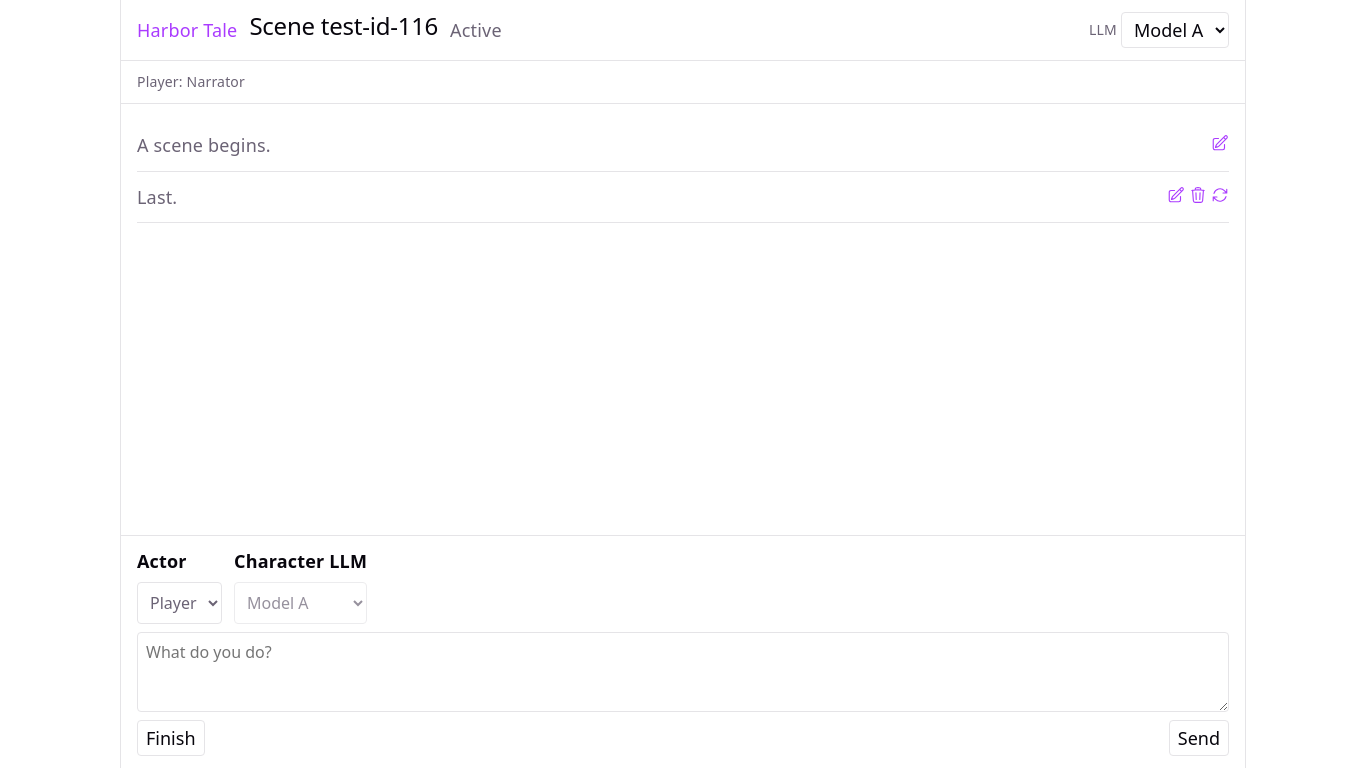
Test: CharacterScenePage › keeps a failed edit draft open and displays its error
Expected: the text "Last." is shown, [137,184,177,208]
Step 1. Click the button named "Edit paragraph" in the row of "Last." → (1176, 197), box [1167,184,1185,210]
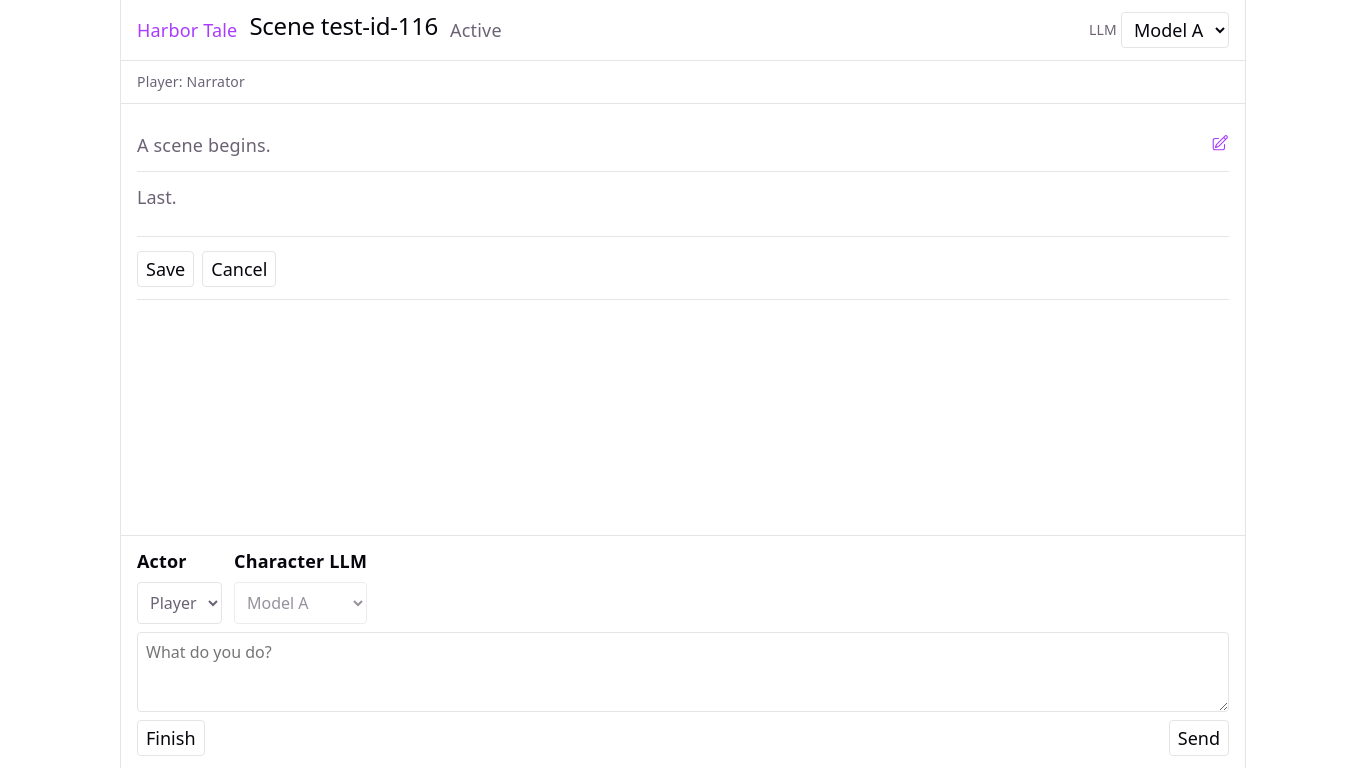
Step 2. Replace the text in the text box named "Edit paragraph" with "Keep this draft." → (683, 210), box [137,184,1229,237]
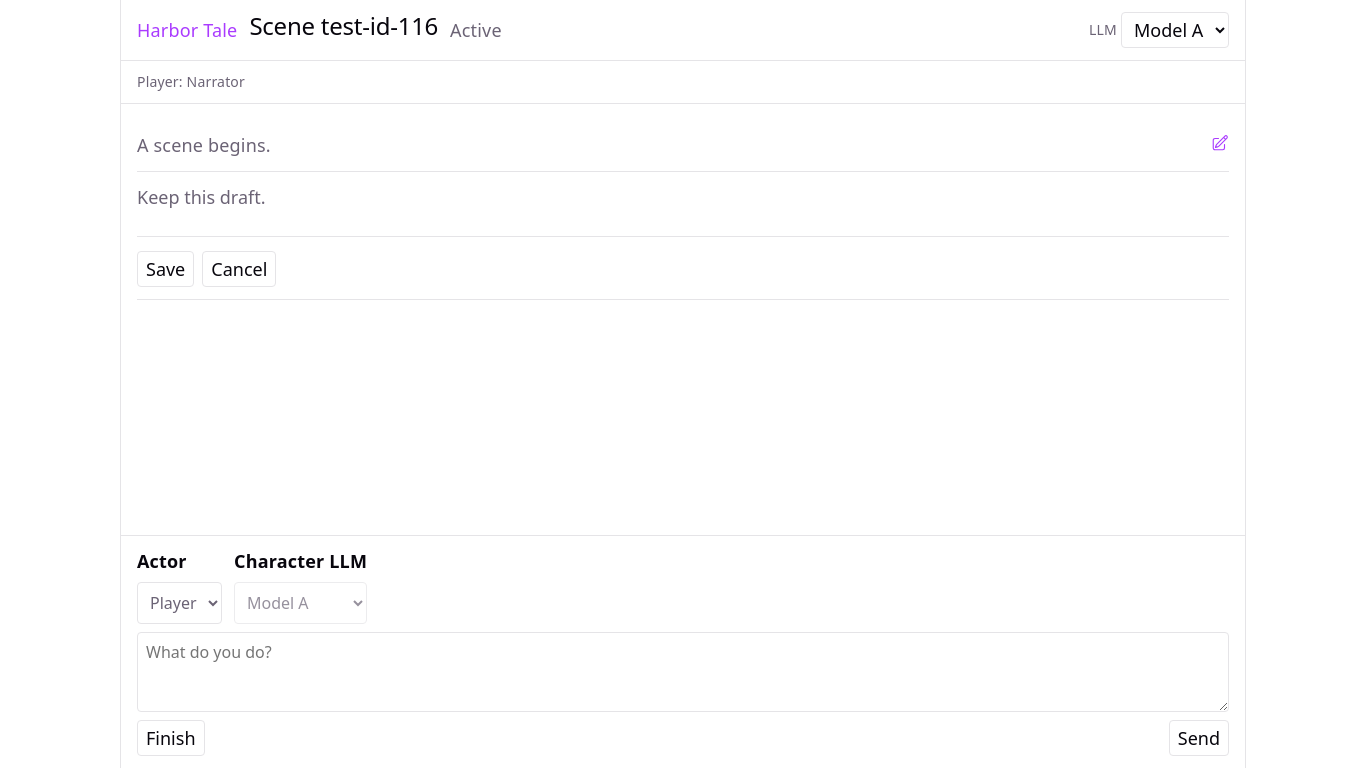
Step 3. Click the button "Save" → (166, 269), box [137,251,194,287]
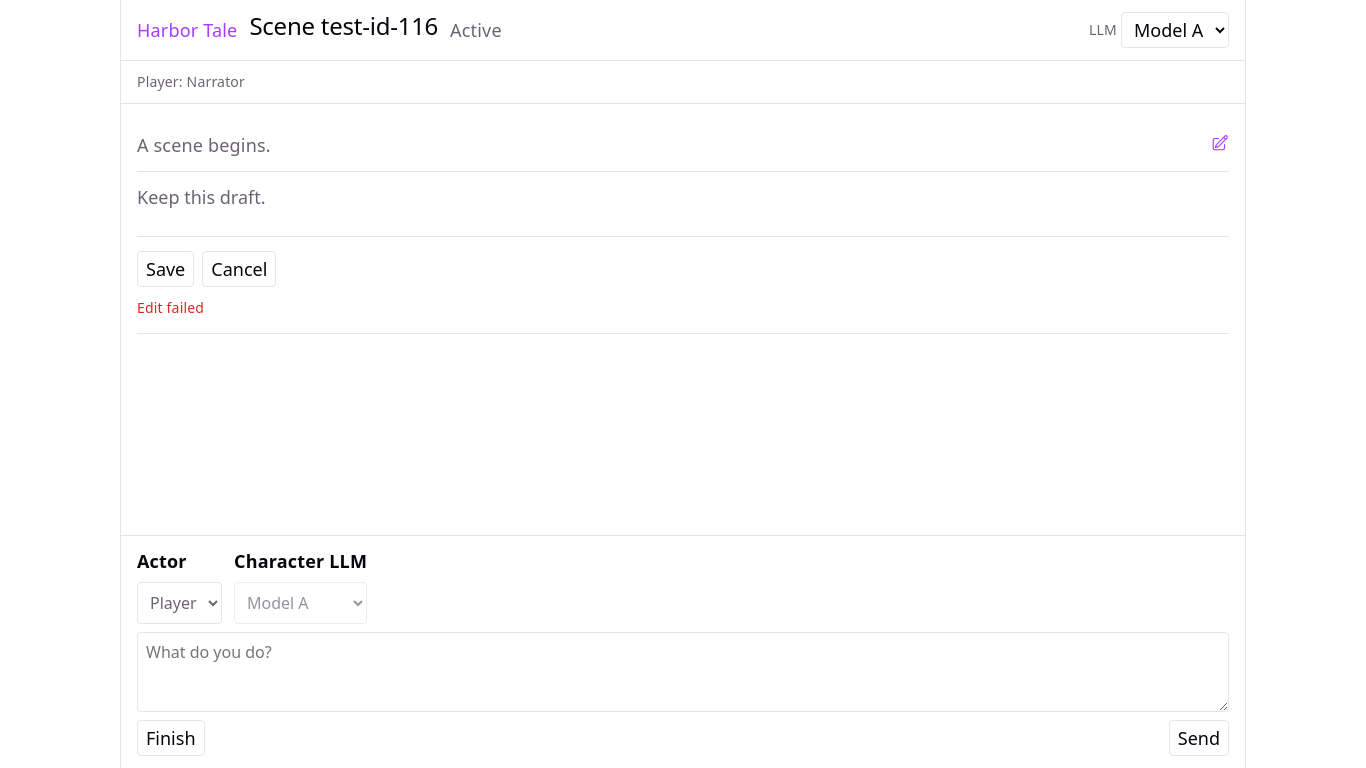
Expected: the message reads "Edit failed", [137,298,204,317]
